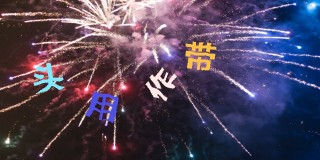作: (144, 66, 178, 102)
头: (31, 63, 66, 94)
带: (184, 39, 217, 71)
用: (87, 91, 119, 122)
